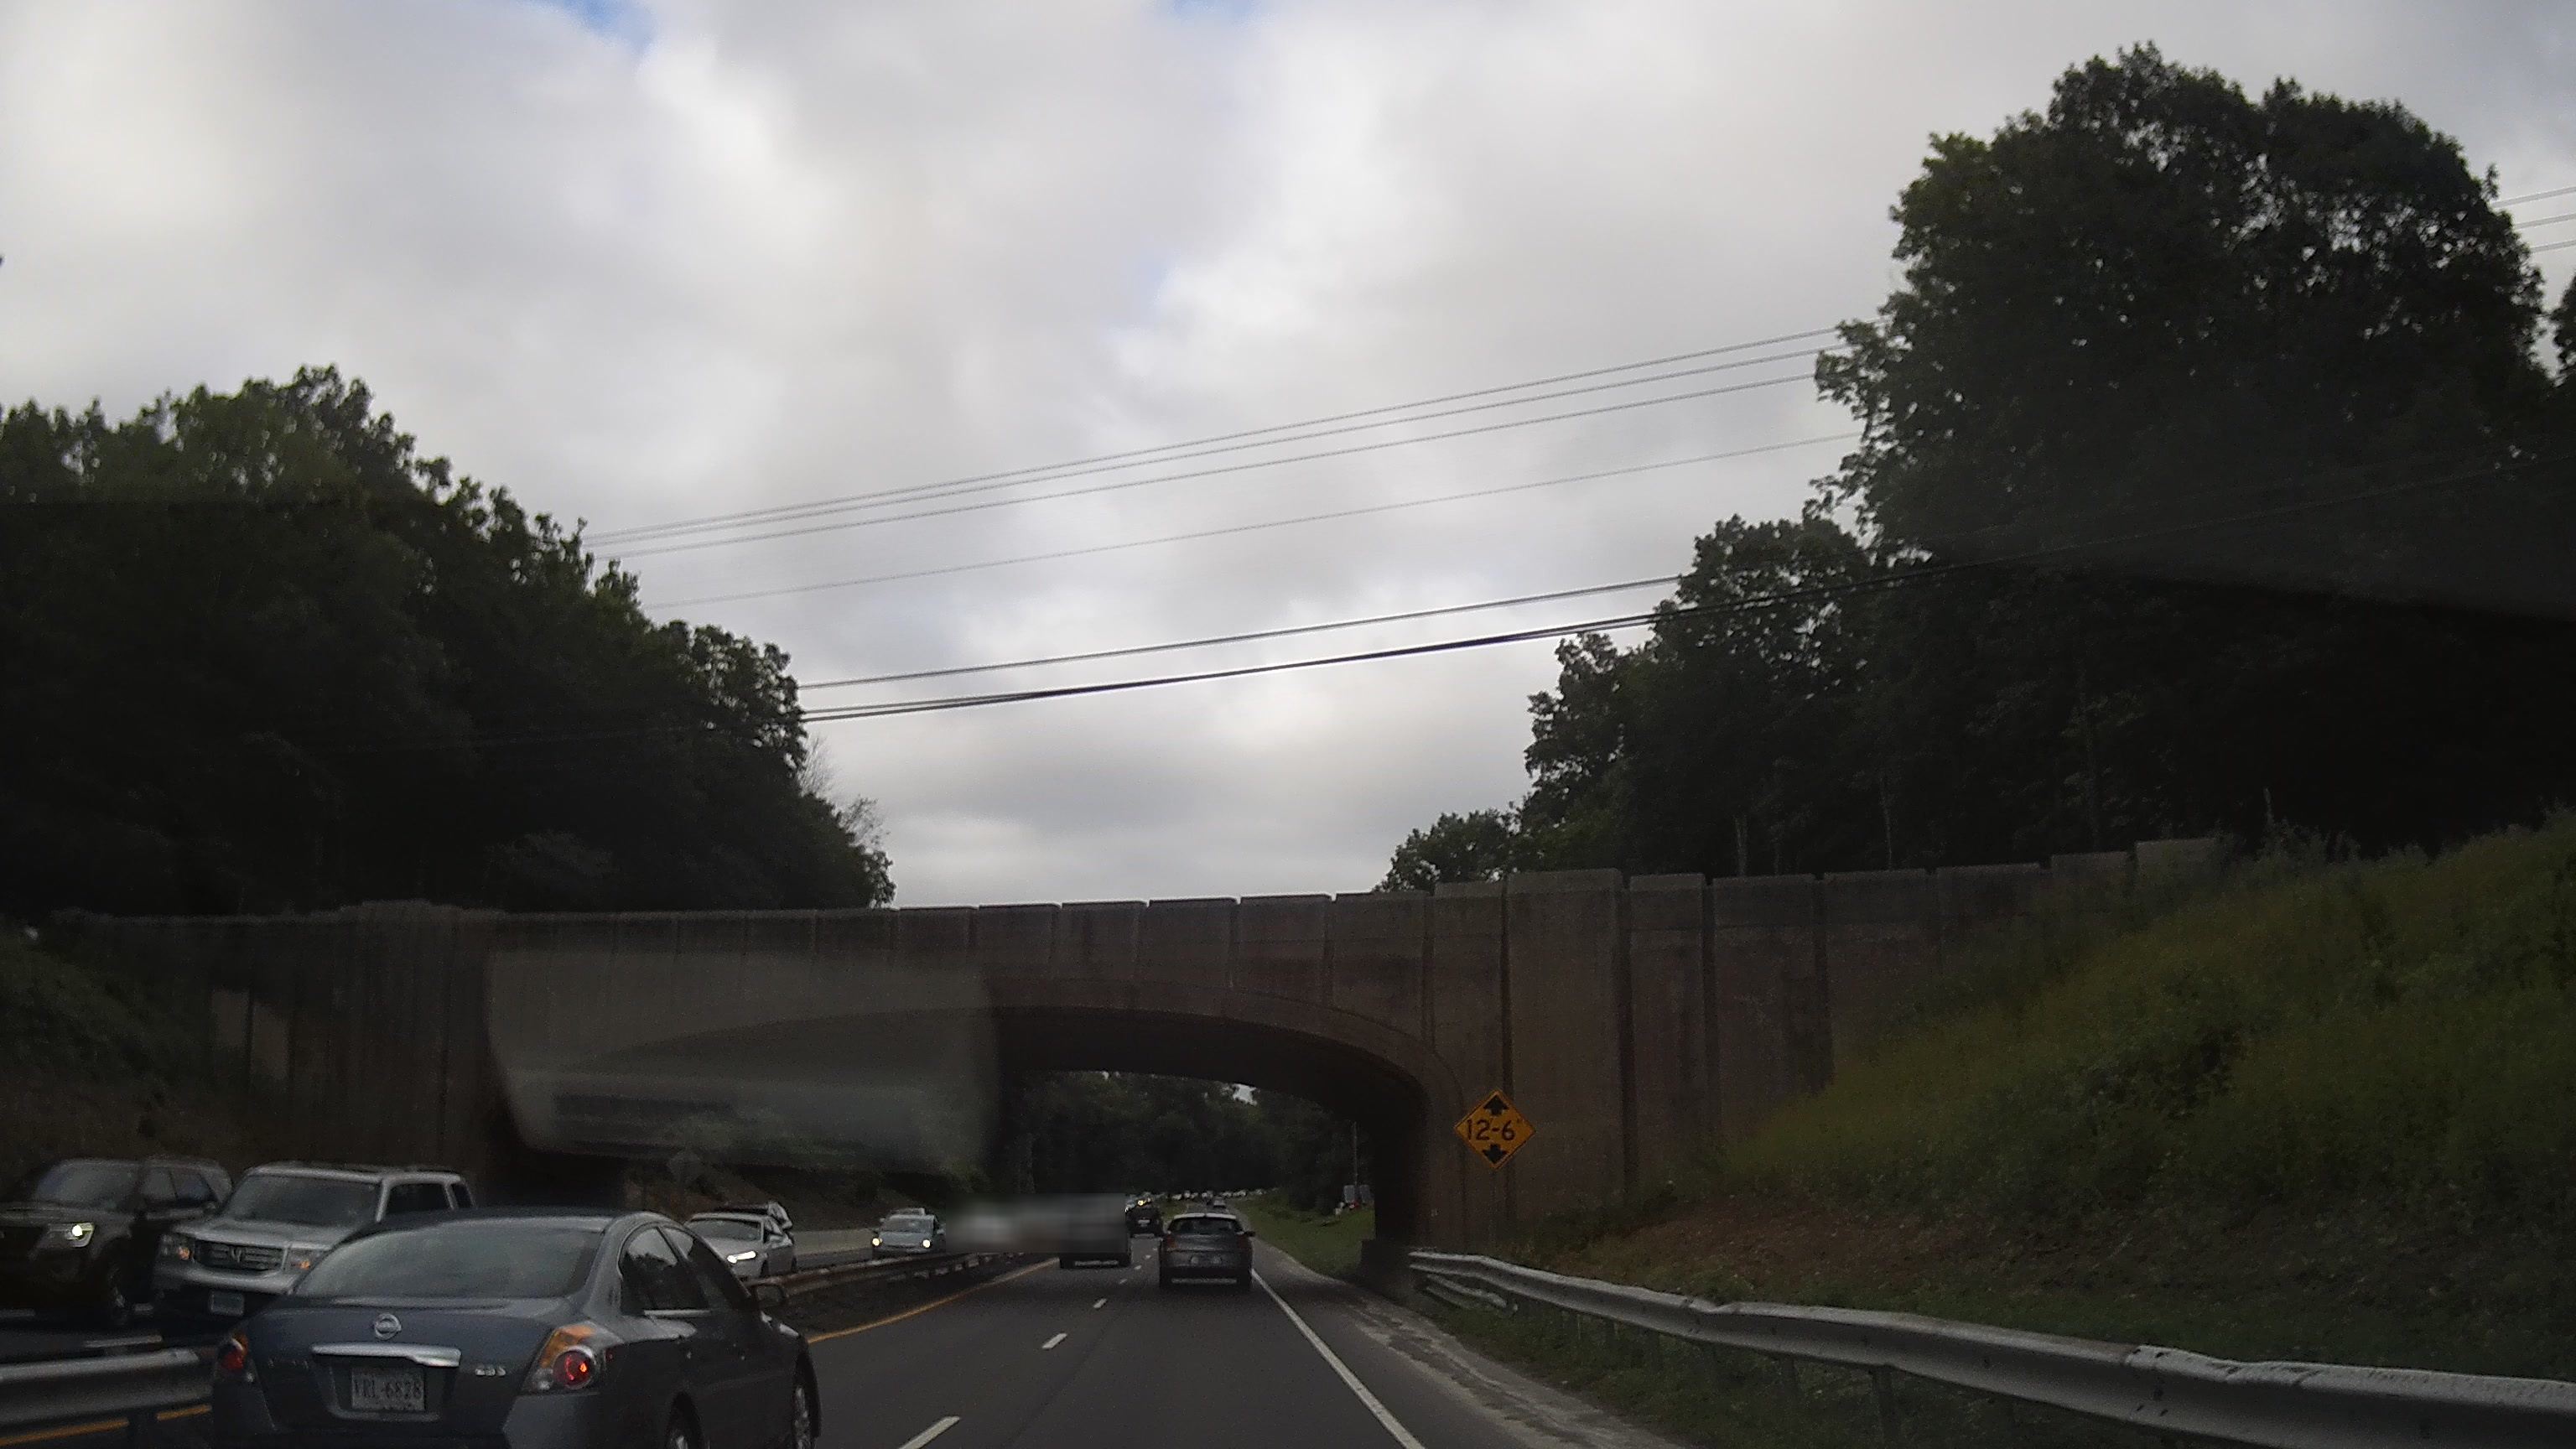low-clearance-sign: (1451, 1086, 1537, 1173)
